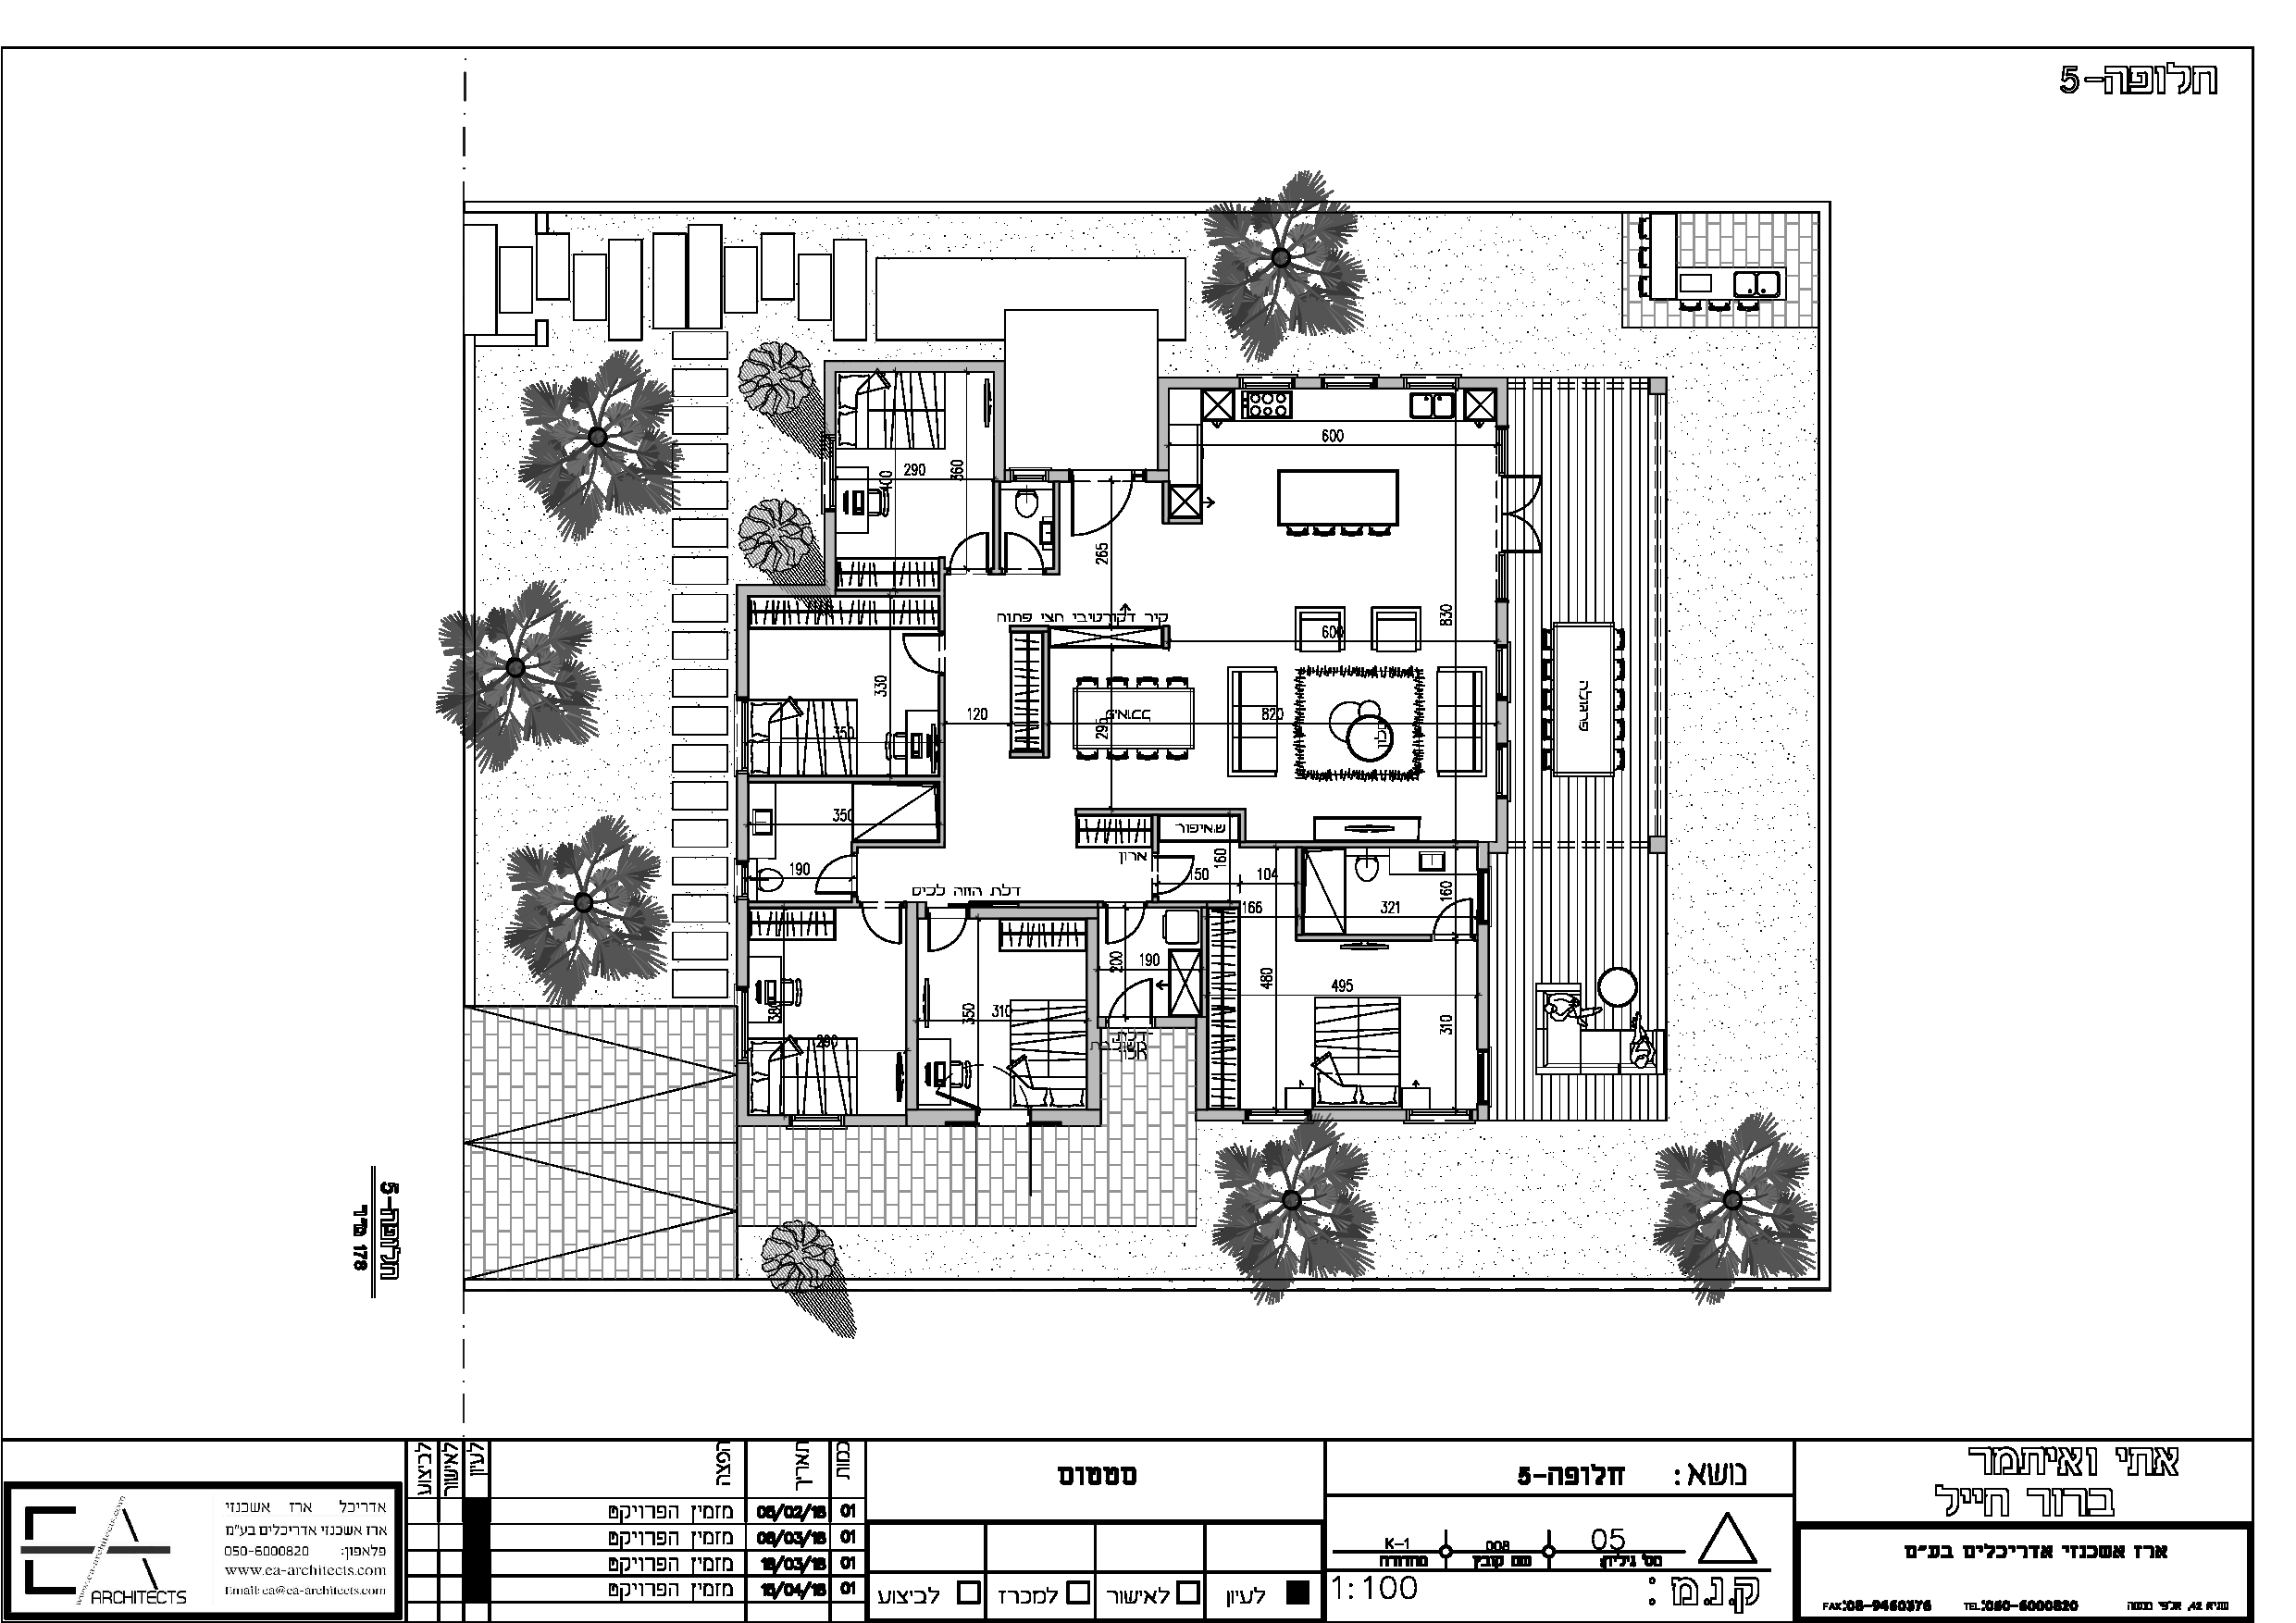door: (1068, 469, 1142, 548), (1507, 474, 1562, 559), (891, 629, 954, 683), (924, 899, 978, 959), (1154, 845, 1203, 908), (1101, 973, 1159, 1026), (817, 845, 866, 896), (861, 901, 906, 956), (1103, 899, 1145, 952), (1003, 534, 1045, 583), (1432, 891, 1476, 936), (949, 534, 994, 574)
room: (1051, 638, 1472, 801), (1198, 411, 1491, 595), (1247, 866, 1474, 1103), (750, 595, 931, 769), (748, 908, 896, 1114), (921, 922, 1089, 1101), (843, 378, 991, 576)
wall: (826, 350, 1007, 381), (1080, 899, 1103, 1124), (901, 906, 926, 1107), (903, 899, 924, 1119), (1186, 1024, 1214, 1129), (750, 773, 952, 787), (1476, 926, 1498, 1042), (1154, 374, 1177, 487), (734, 581, 754, 692), (970, 901, 1096, 917), (991, 378, 1008, 488), (1319, 1103, 1404, 1124), (938, 674, 952, 773), (1031, 1108, 1101, 1124), (738, 899, 750, 989), (736, 1071, 748, 1129), (738, 1115, 799, 1126)
window: (820, 430, 845, 516), (1237, 364, 1303, 393), (1491, 629, 1518, 701), (1411, 1101, 1491, 1124), (1491, 745, 1518, 799), (1319, 371, 1386, 392), (1423, 1108, 1481, 1131), (1411, 371, 1465, 393), (1240, 1103, 1310, 1121)
